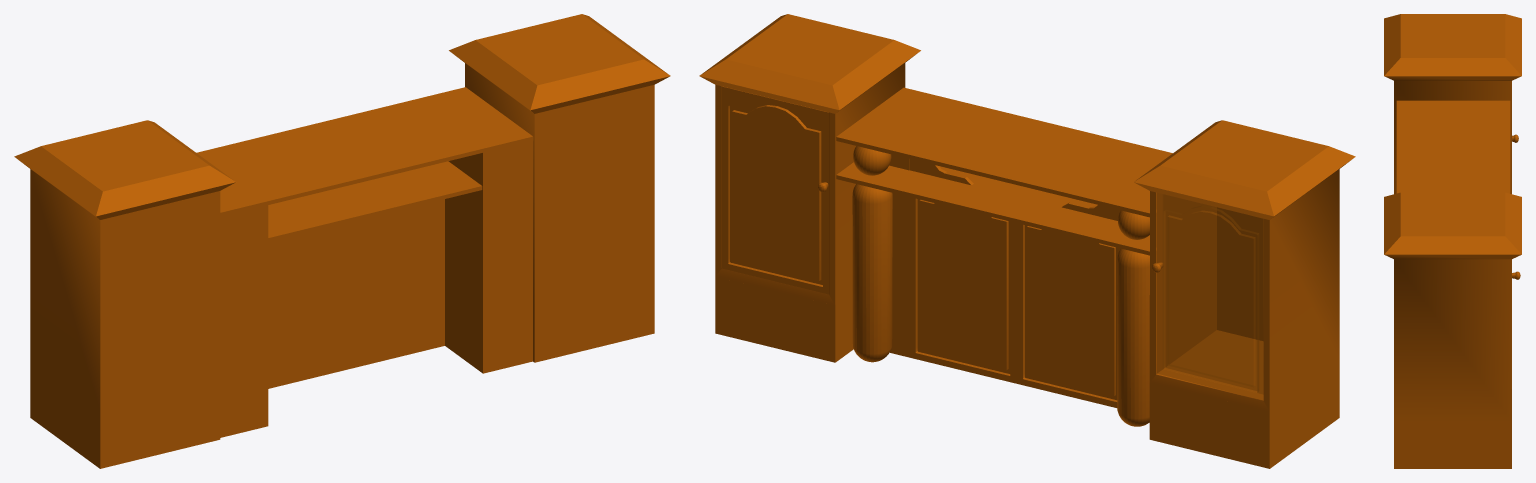
The model's file is Cabinet.fbx.
The picture shows the model from 3 angles, left to right: view 1: azimuth 30°, elevation 25°; view 2: azimuth 150°, elevation 25°; view 3: azimuth 270°, elevation 25°; orthographic projection. The views are drawn at different scales.
Visible parts, largest first — view 1: Cabinet; view 2: Cabinet, CabinetDoor; view 3: Cabinet.
Part boxes in pixels (x1=…): Cabinet: x1=14, y1=14, x2=670, y2=468; Cabinet: x1=699, y1=14, x2=1355, y2=468; CabinetDoor: x1=1152, y1=193, x2=1263, y2=400; Cabinet: x1=1384, y1=14, x2=1521, y2=468.
Bounding box in the file's own units: 2692 × 1221 × 663.
